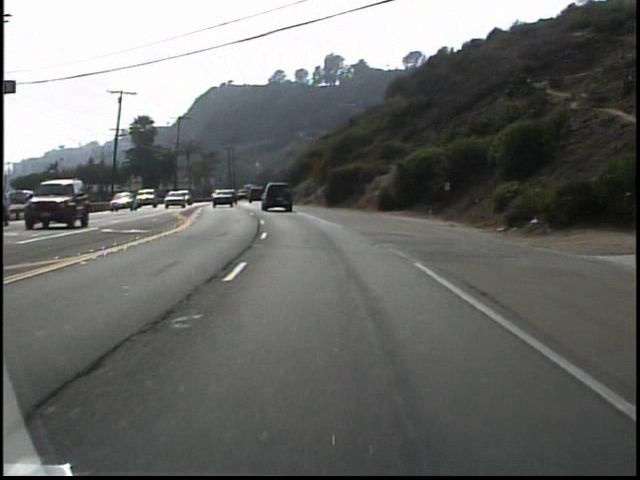person: (3, 188, 21, 229)
